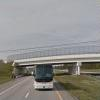Bus: (27, 60, 56, 91)
